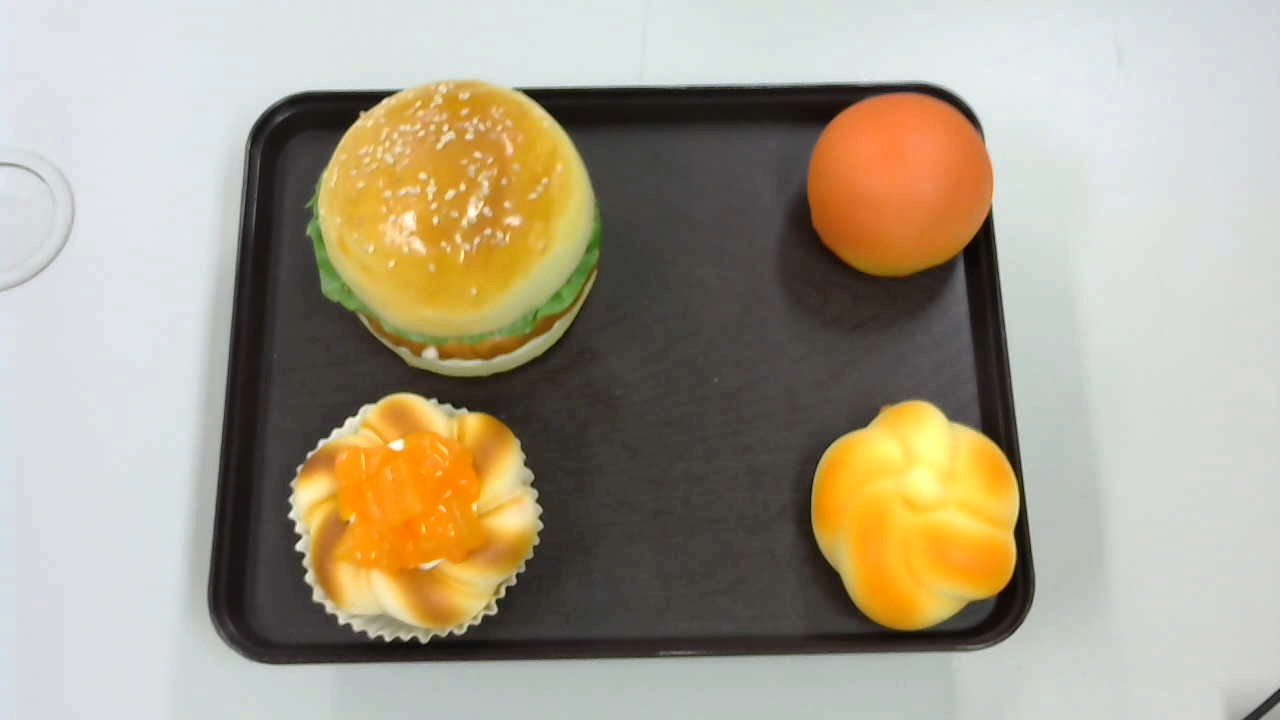bun: (807, 92, 995, 279)
hamburger: (304, 77, 604, 381)
mango tart: (289, 393, 545, 644)
twist bread: (811, 400, 1020, 631)
